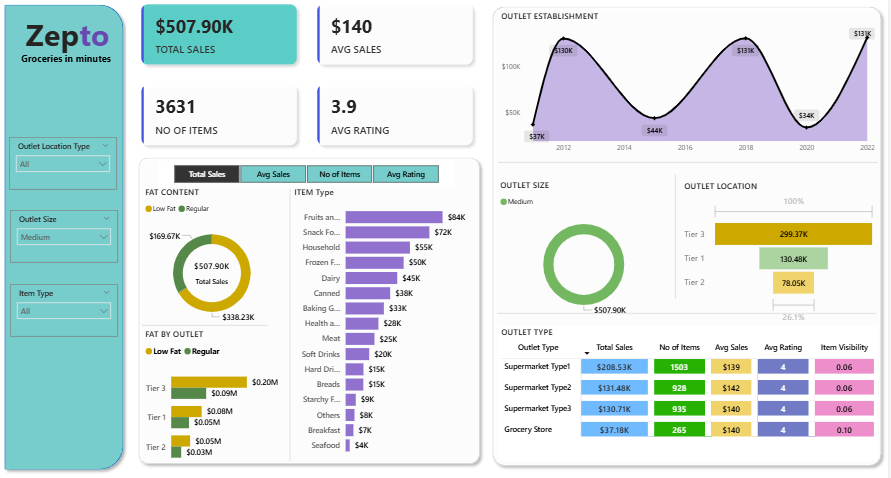

What the dashboard file says about the page in this screenshot:
{"tool":"powerbi","page":{"name":"Page 1","canvas":[1400,800],"ordinal":0},"visuals":[{"type":"shape","box":[0,15.6,204.7,750],"z":0},{"type":"textbox","box":[23.4,32.8,168.8,76.6],"z":1000},{"type":"textbox","box":[18.8,93.8,173.4,31.2],"z":2000},{"type":"cardVisual","fields":{"Data":["Zepto Grocery Data.Total Sales","Zepto Grocery Data.Avg Sales","Zepto Grocery Data.No of Items","Zepto Grocery Data.Avg Rating"]},"box":[200,0,570,270],"z":3000},{"type":"shape","box":[210.9,256.2,554.7,500],"z":4000},{"type":"donutChart","title":"FAT CONTENT","fields":{"Y":["Zepto Grocery Data.Total Sales"],"Category":["Zepto Grocery Data.Item Fat Content"]},"box":[225,310.9,220,230],"z":5000},{"type":"slicer","fields":{"Values":["Metrics.Metrics"]},"box":[250,270.3,465.6,40.6],"z":6000},{"type":"cardVisual","fields":{"Data":["Zepto Grocery Data.Total Sales"]},"box":[271.9,406.2,125,81.2],"z":7000},{"type":"clusteredBarChart","title":"FAT BY OUTLET","fields":{"Y":["Zepto Grocery Data.Total Sales"],"Category":["Zepto Grocery Data.Outlet Location Type"],"Series":["Zepto Grocery Data.Item Fat Content"]},"box":[225,534.4,220.3,229.7],"z":8000},{"type":"shape","box":[225,514.1,198.4,32.8],"z":9000},{"type":"shape","box":[451.6,315.6,12.5,428.1],"z":10000},{"type":"barChart","title":"ITEM Type","fields":{"Y":["Zepto Grocery Data.Total Sales"],"Category":["Zepto Grocery Data.Item Type"]},"box":[459.4,310.9,290.6,432.8],"z":11000},{"type":"shape","box":[768.8,18.8,629.7,740.6],"z":12000},{"type":"lineChart","title":"OUTLET ESTABLISHMENT","fields":{"Category":["Zepto Grocery Data.Outlet Establishment Year"],"Y":["Zepto Grocery Data.Total Sales"]},"box":[785.9,32.8,598.4,234.4],"z":13000},{"type":"shape","box":[785.9,260.9,598.4,23.4],"z":14000},{"type":"donutChart","title":"OUTLET SIZE ","fields":{"Y":["Zepto Grocery Data.Total Sales"],"Category":["Zepto Grocery Data.Outlet Size"]},"box":[784.4,298.4,273.4,225],"z":15000},{"type":"shape","box":[1056.2,290.6,17.2,196.9],"z":16000},{"type":"funnel","title":"OUTLET LOCATION","fields":{"Y":["Sum(Zepto Grocery Data.Sales)"],"Category":["Zepto Grocery Data.Outlet Location Type"]},"box":[1073.4,301,310.9,229.7],"z":17000},{"type":"shape","box":[784.4,498.4,598.4,23.4],"z":18000},{"type":"pivotTable","title":"OUTLET TYPE","fields":{"Rows":["Zepto Grocery Data.Outlet Type"],"Values":["Zepto Grocery Data.Total Sales","Zepto Grocery Data.No of Items","Zepto Grocery Data.Avg Sales","Zepto Grocery Data.Avg Rating","Avg(Zepto Grocery Data.Item Visibility)"]},"box":[785.9,531.2,598.4,212.5],"z":19000},{"type":"slicer","fields":{"Values":["Zepto Grocery Data.Outlet Location Type"]},"box":[15.6,232.8,170.3,82.8],"z":20000},{"type":"slicer","fields":{"Values":["Zepto Grocery Data.Outlet Size"]},"box":[17.2,348.4,170.3,82.8],"z":21000},{"type":"slicer","fields":{"Values":["Zepto Grocery Data.Item Type"]},"box":[17.2,464.1,170.3,82.8],"z":22000}]}

Visuals, with their boxes on the page's 1400x800 design canvas (x1, y1, x2, y2). These are canvas units, not pixel positions in the 891x478 screenshot, which may show the page scaled, cropped or inside an application window:
shape: bbox(0, 16, 205, 766)
textbox: bbox(23, 33, 192, 109)
textbox: bbox(19, 94, 192, 125)
cardVisual - Zepto Grocery Data.Total Sales x Zepto Grocery Data.Avg Sales: bbox(200, 0, 770, 270)
shape: bbox(211, 256, 766, 756)
"FAT CONTENT" donutChart: bbox(225, 311, 445, 541)
slicer - Metrics.Metrics: bbox(250, 270, 716, 311)
cardVisual - Zepto Grocery Data.Total Sales: bbox(272, 406, 397, 487)
"FAT BY OUTLET" clusteredBarChart: bbox(225, 534, 445, 764)
shape: bbox(225, 514, 423, 547)
shape: bbox(452, 316, 464, 744)
"ITEM Type" barChart: bbox(459, 311, 750, 744)
shape: bbox(769, 19, 1398, 759)
"OUTLET ESTABLISHMENT" lineChart: bbox(786, 33, 1384, 267)
shape: bbox(786, 261, 1384, 284)
"OUTLET SIZE " donutChart: bbox(784, 298, 1058, 523)
shape: bbox(1056, 291, 1073, 488)
"OUTLET LOCATION" funnel: bbox(1073, 301, 1384, 531)
shape: bbox(784, 498, 1383, 522)
"OUTLET TYPE" pivotTable: bbox(786, 531, 1384, 744)
slicer - Zepto Grocery Data.Outlet Location Type: bbox(16, 233, 186, 316)
slicer - Zepto Grocery Data.Outlet Size: bbox(17, 348, 188, 431)
slicer - Zepto Grocery Data.Item Type: bbox(17, 464, 188, 547)
